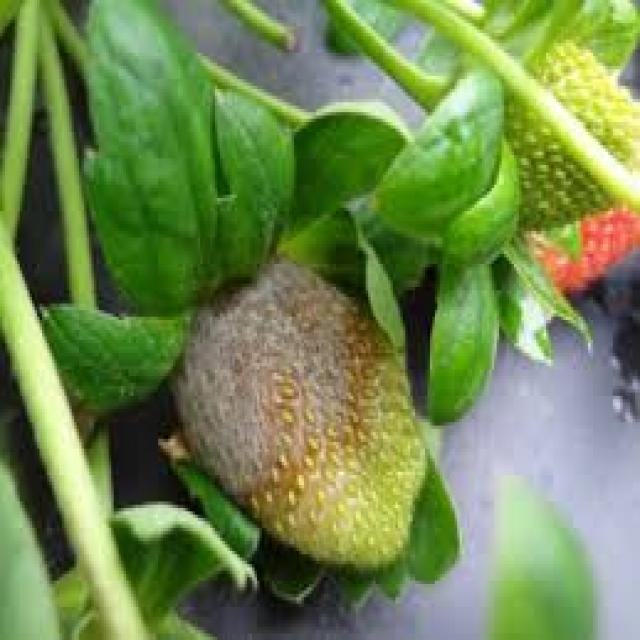Moho gris: (166, 214, 430, 574)
